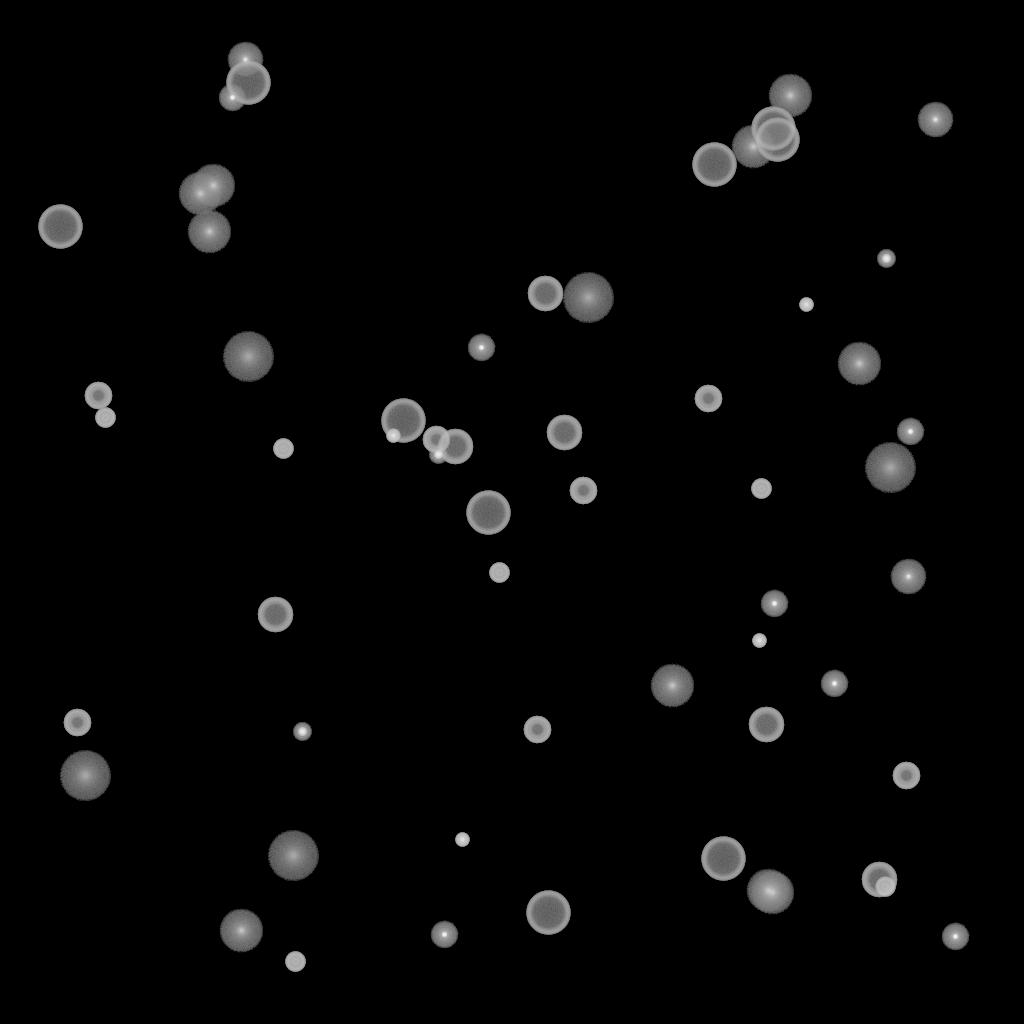depth:-10: (896, 418, 924, 446), (760, 590, 788, 618), (218, 84, 246, 112), (430, 921, 458, 949), (467, 334, 495, 362), (941, 923, 969, 951), (820, 670, 848, 698)
depth:-20: (877, 250, 895, 268), (293, 723, 311, 741), (429, 446, 447, 464)
depth:-30: (752, 634, 766, 648), (799, 298, 813, 312), (455, 833, 469, 847), (386, 429, 400, 443)
depth:-40: (273, 439, 293, 459), (95, 408, 115, 428), (285, 952, 305, 972), (489, 563, 509, 583), (875, 877, 895, 897), (751, 479, 771, 499)
depth:-50: (892, 762, 920, 790), (422, 426, 450, 454), (569, 477, 597, 505), (523, 716, 551, 744), (694, 385, 722, 413), (63, 709, 91, 737), (84, 382, 112, 410)
depth:-60: (527, 276, 563, 312), (546, 415, 582, 451), (257, 597, 293, 633), (748, 707, 784, 743), (437, 429, 473, 465), (861, 862, 897, 898)
depth:-70: (226, 61, 270, 105), (38, 205, 82, 249), (701, 837, 745, 881), (751, 107, 795, 151), (692, 143, 736, 187), (755, 118, 799, 162), (381, 399, 425, 443), (466, 491, 510, 535), (526, 891, 570, 935)
depth:0: (917, 102, 953, 138), (227, 42, 263, 78), (890, 559, 926, 595)
depth:10: (837, 342, 881, 386), (178, 172, 222, 216), (746, 869, 790, 913), (187, 210, 231, 254), (750, 871, 794, 915), (768, 74, 812, 118), (219, 909, 263, 953), (650, 664, 694, 708), (731, 125, 775, 169), (191, 164, 235, 208)
depth:20: (222, 332, 274, 382), (267, 831, 319, 881), (562, 273, 614, 323), (59, 751, 111, 801), (864, 443, 916, 493)
